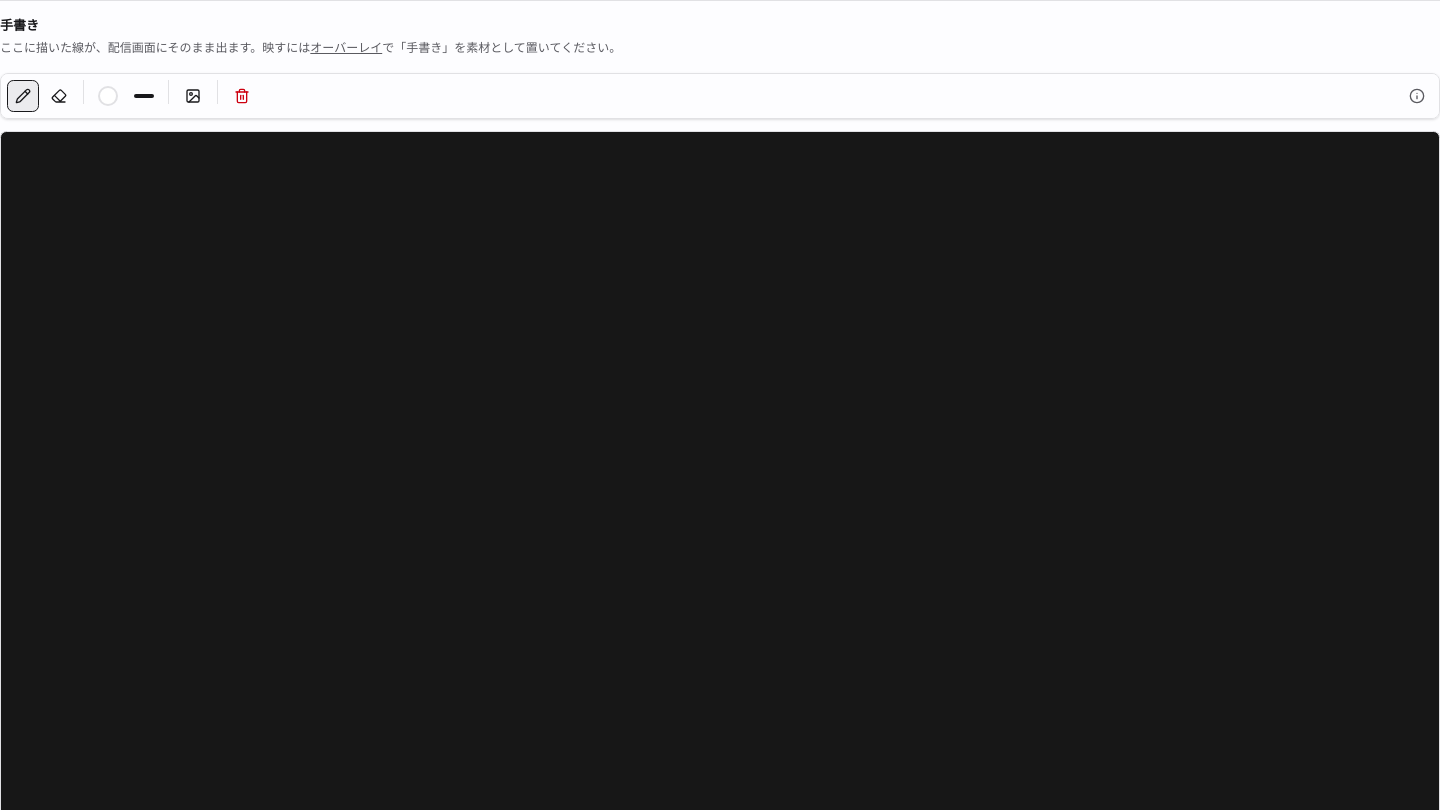
Test: DrawPage › 仕様の説明は、iボタンを押したときだけ出す
This screenshot has width=1440, height=810.
Expected: the text "触れた線を1本消す" is not shown
Step 1. Click the button named "手書きについて" → point(1417, 96), box [1401,80,1433,112]
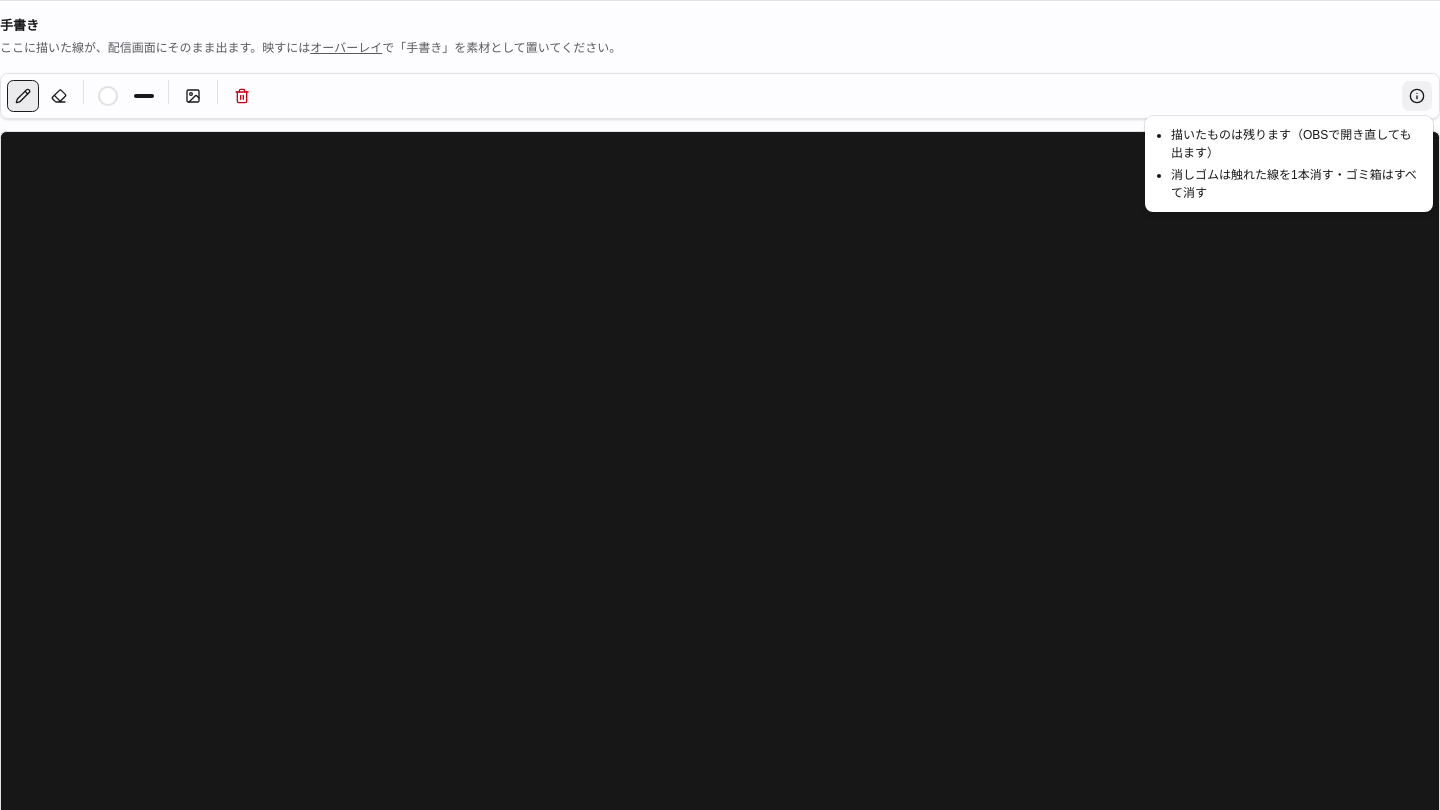
Now the list item "消しゴムは触れた線を1本消す・ゴミ箱はすべて消す" is shown, box [1171,166,1423,202]
